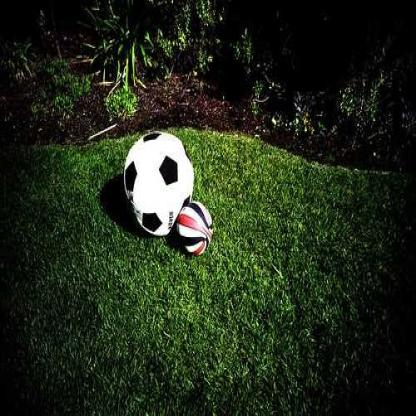ball: (124, 131, 194, 235), (177, 201, 215, 255)
